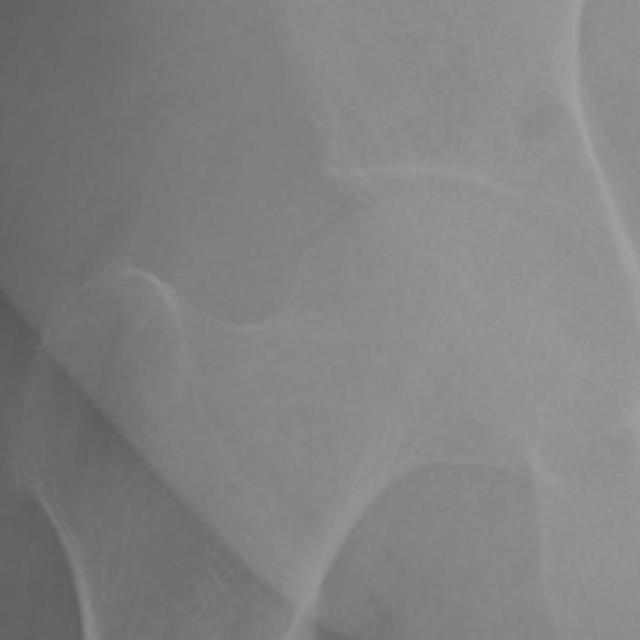Fitted_femural_head: (298, 192, 432, 298)
